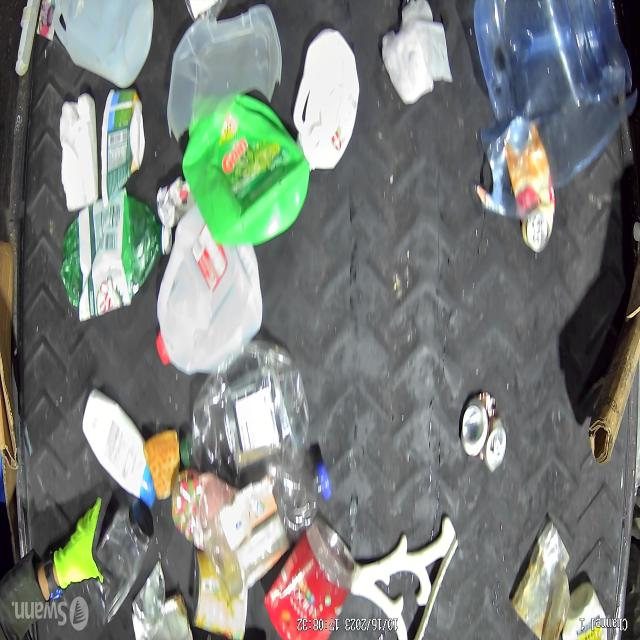can: (496, 122, 554, 246), (457, 398, 509, 469)
milk_jug: (163, 222, 254, 378), (52, 0, 154, 95), (298, 34, 360, 174)
non_white_jug: (183, 91, 315, 253)
plastic_bottle: (178, 343, 312, 475), (228, 460, 339, 591)
